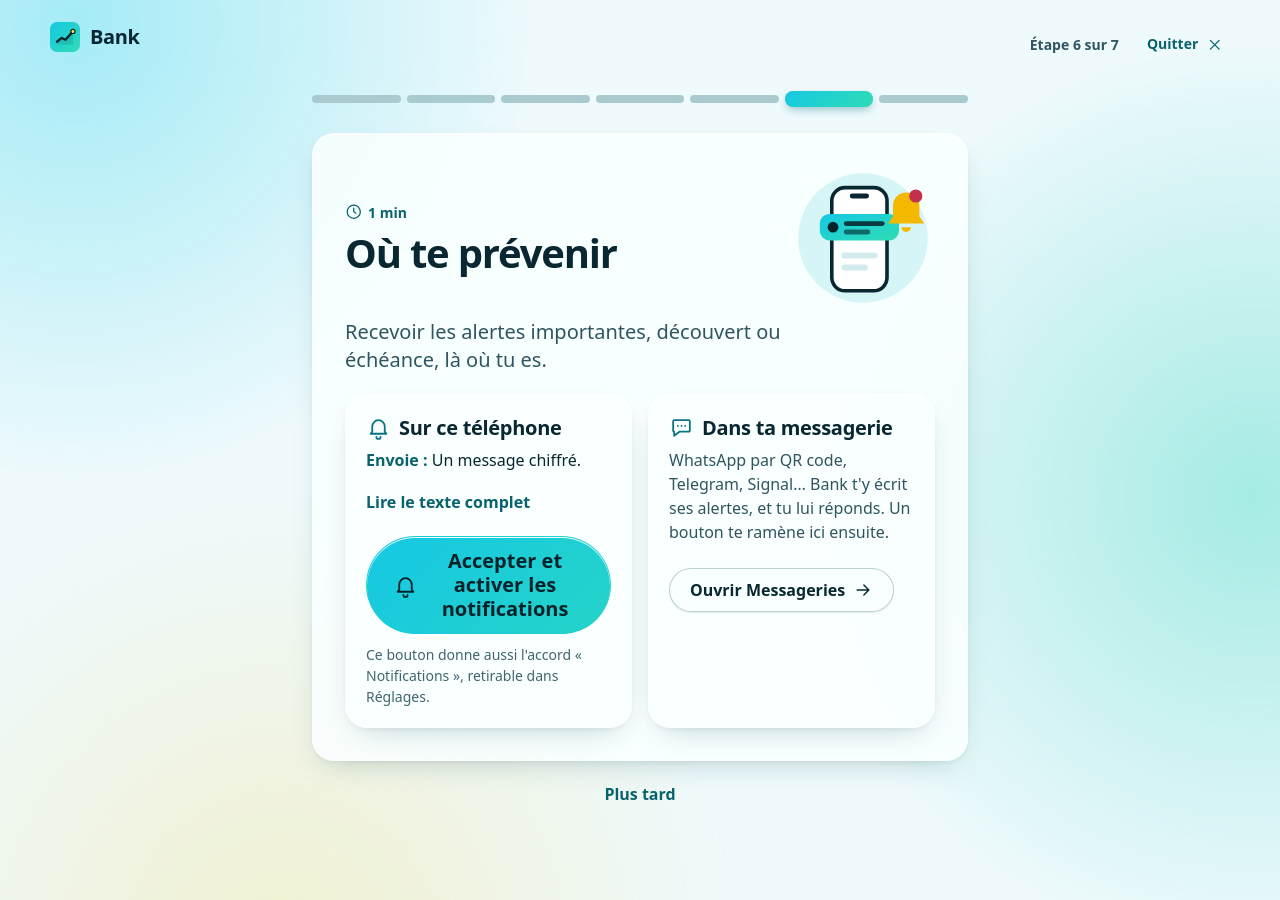
Test: où te prévenir › if the browser subscription fails, the push consent given by that click is taken back
Click the button "Accepter et activer les notifications" at (488, 585), box [366,536,611,634]
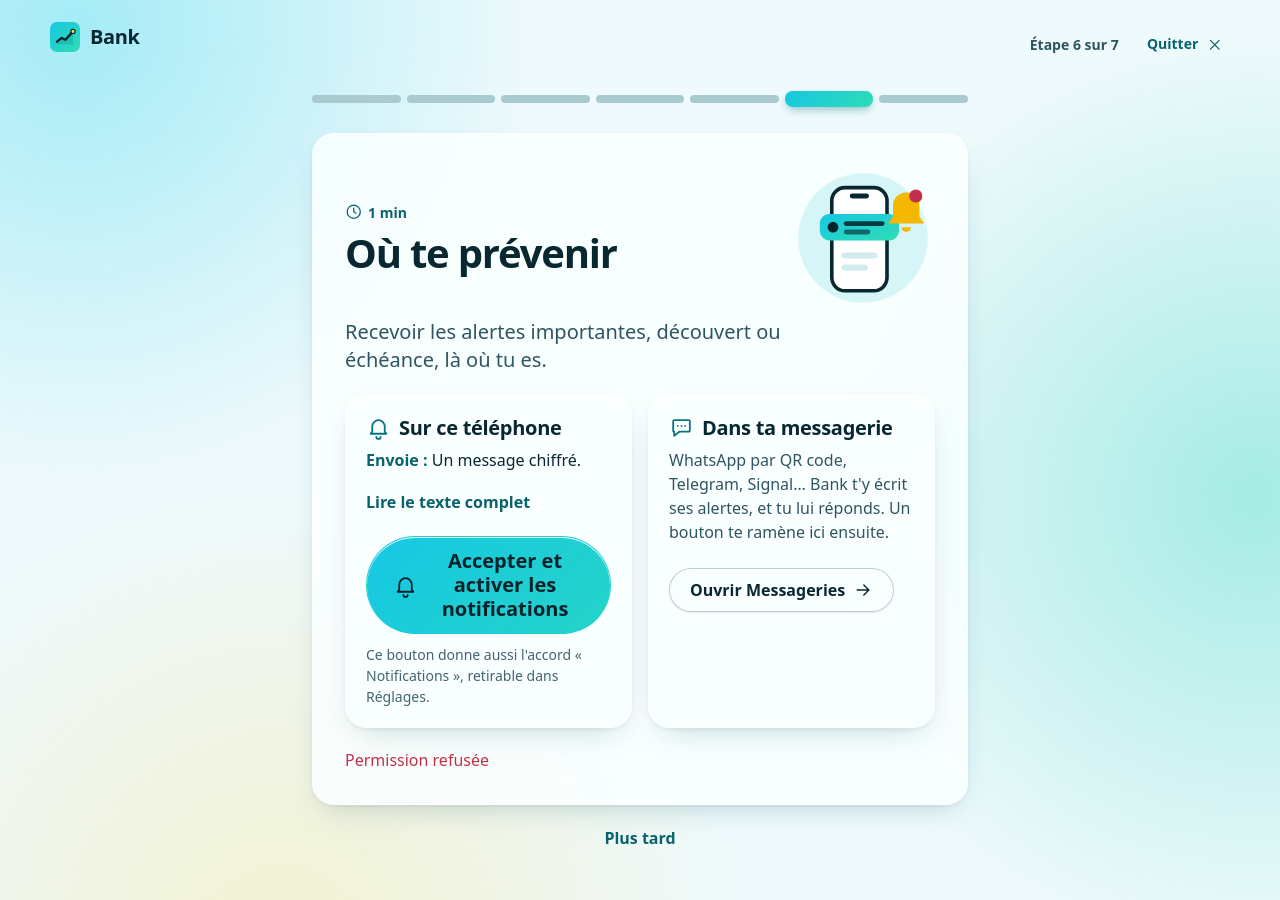
Result: the text "Permission refusée" is shown at [345,749,489,771]
